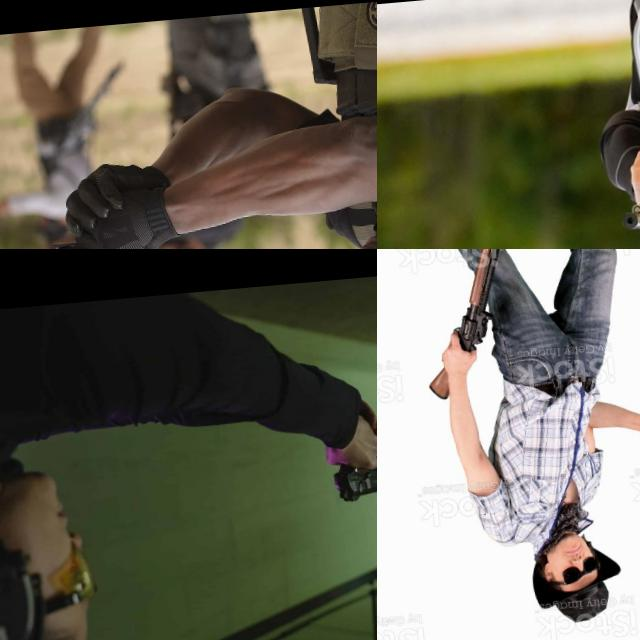handgun: (328, 448, 377, 503), (615, 177, 640, 249)
